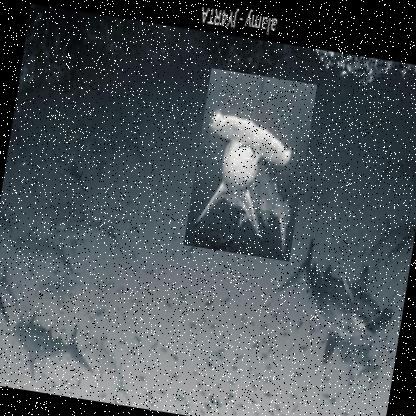hammerhead_Shark: (182, 66, 317, 262)
